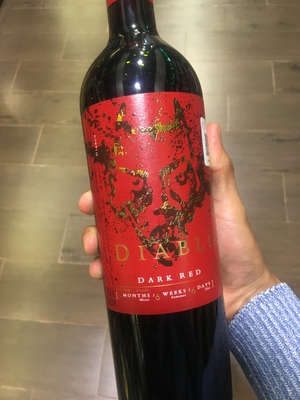diablo dark red: (78, 9, 243, 400)
